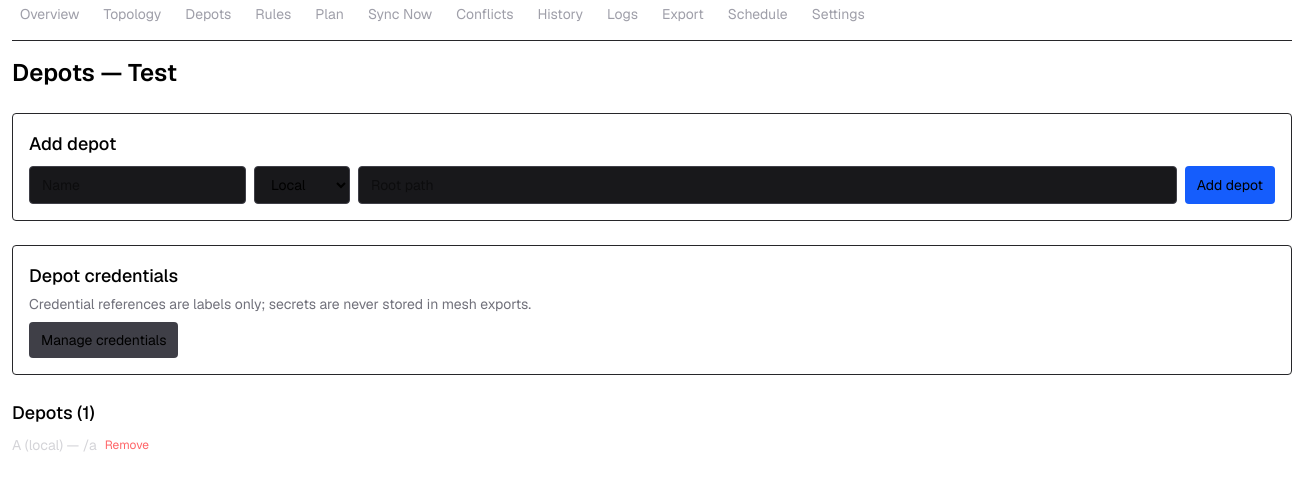
Test: MeshDepotsClient [IMPL-MESH_GUI] › credential_denied_shown_for_operator_role
Click the button with test id "manage-credentials-btn" at (104, 340), box [29,322,178,358]
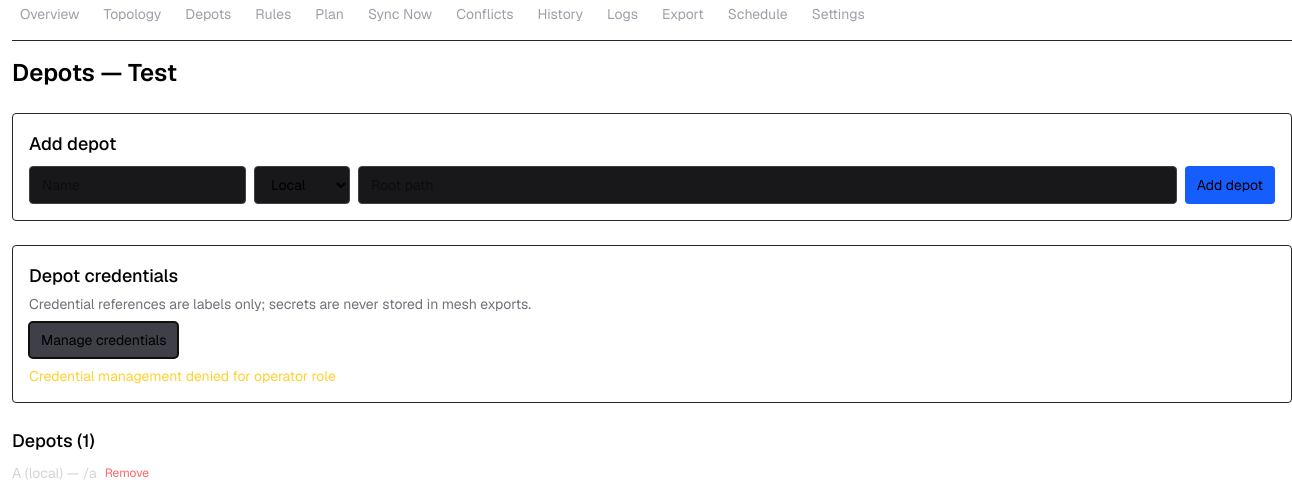
Check: the text with test id "credential-denied" reads "Credential management denied for operator role", box [29,367,336,385]
